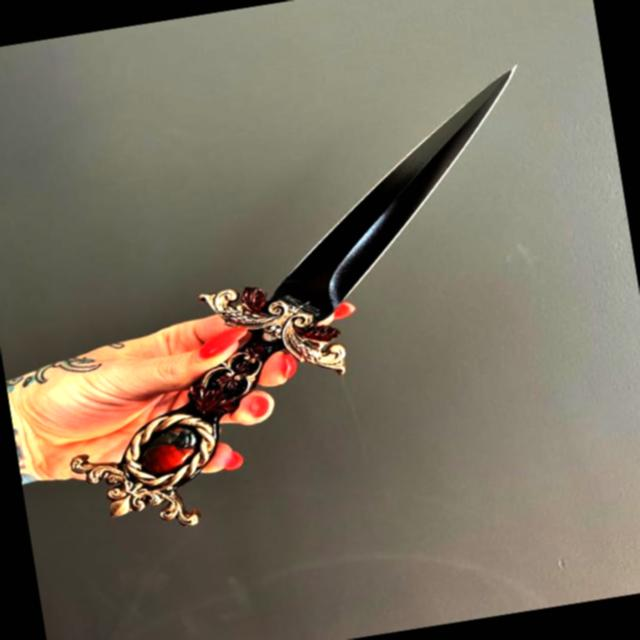short sword: (0, 44, 611, 587)
